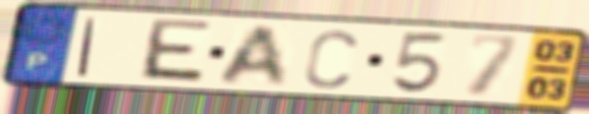5: (390, 29, 449, 95)
7: (463, 33, 521, 99)
A: (214, 23, 291, 88)
C: (300, 27, 361, 91)
E: (134, 16, 216, 86)
I: (73, 15, 101, 79)
